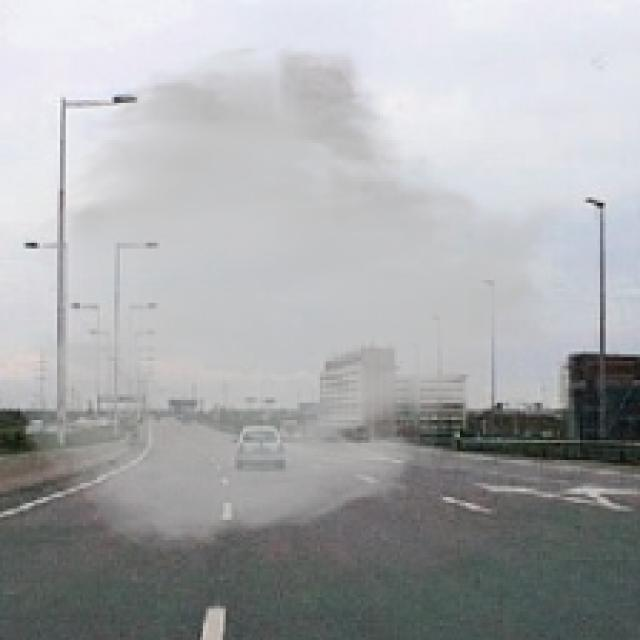smoke: (12, 40, 574, 554)
